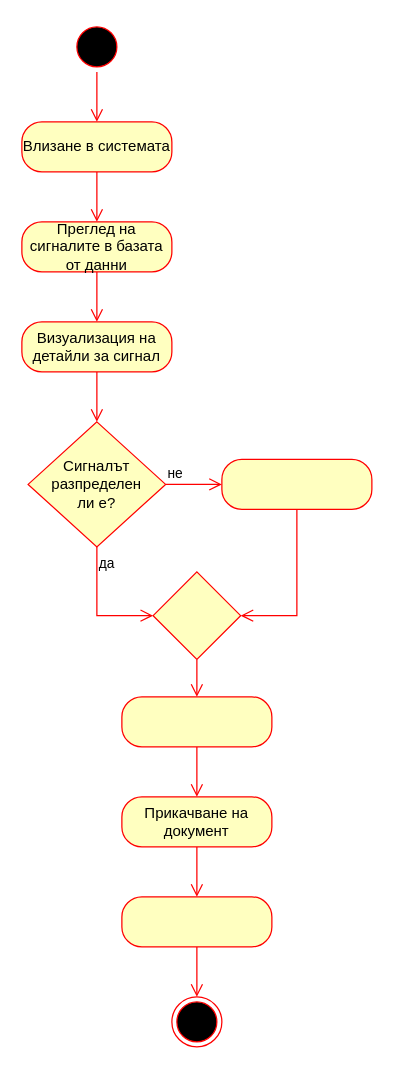
Image size: 394x1069. Some labels were removed from this diagram. The shapes that lost their labels are listed below. From the top down, each one's box as (x1, y1, x2, y2) in pixels, then its label:
(221, 458, 372, 509): Разпределяне на сигнал
(121, 696, 272, 747): Задаване на статус
(121, 896, 272, 947): Задаване на статус "Приключен"
